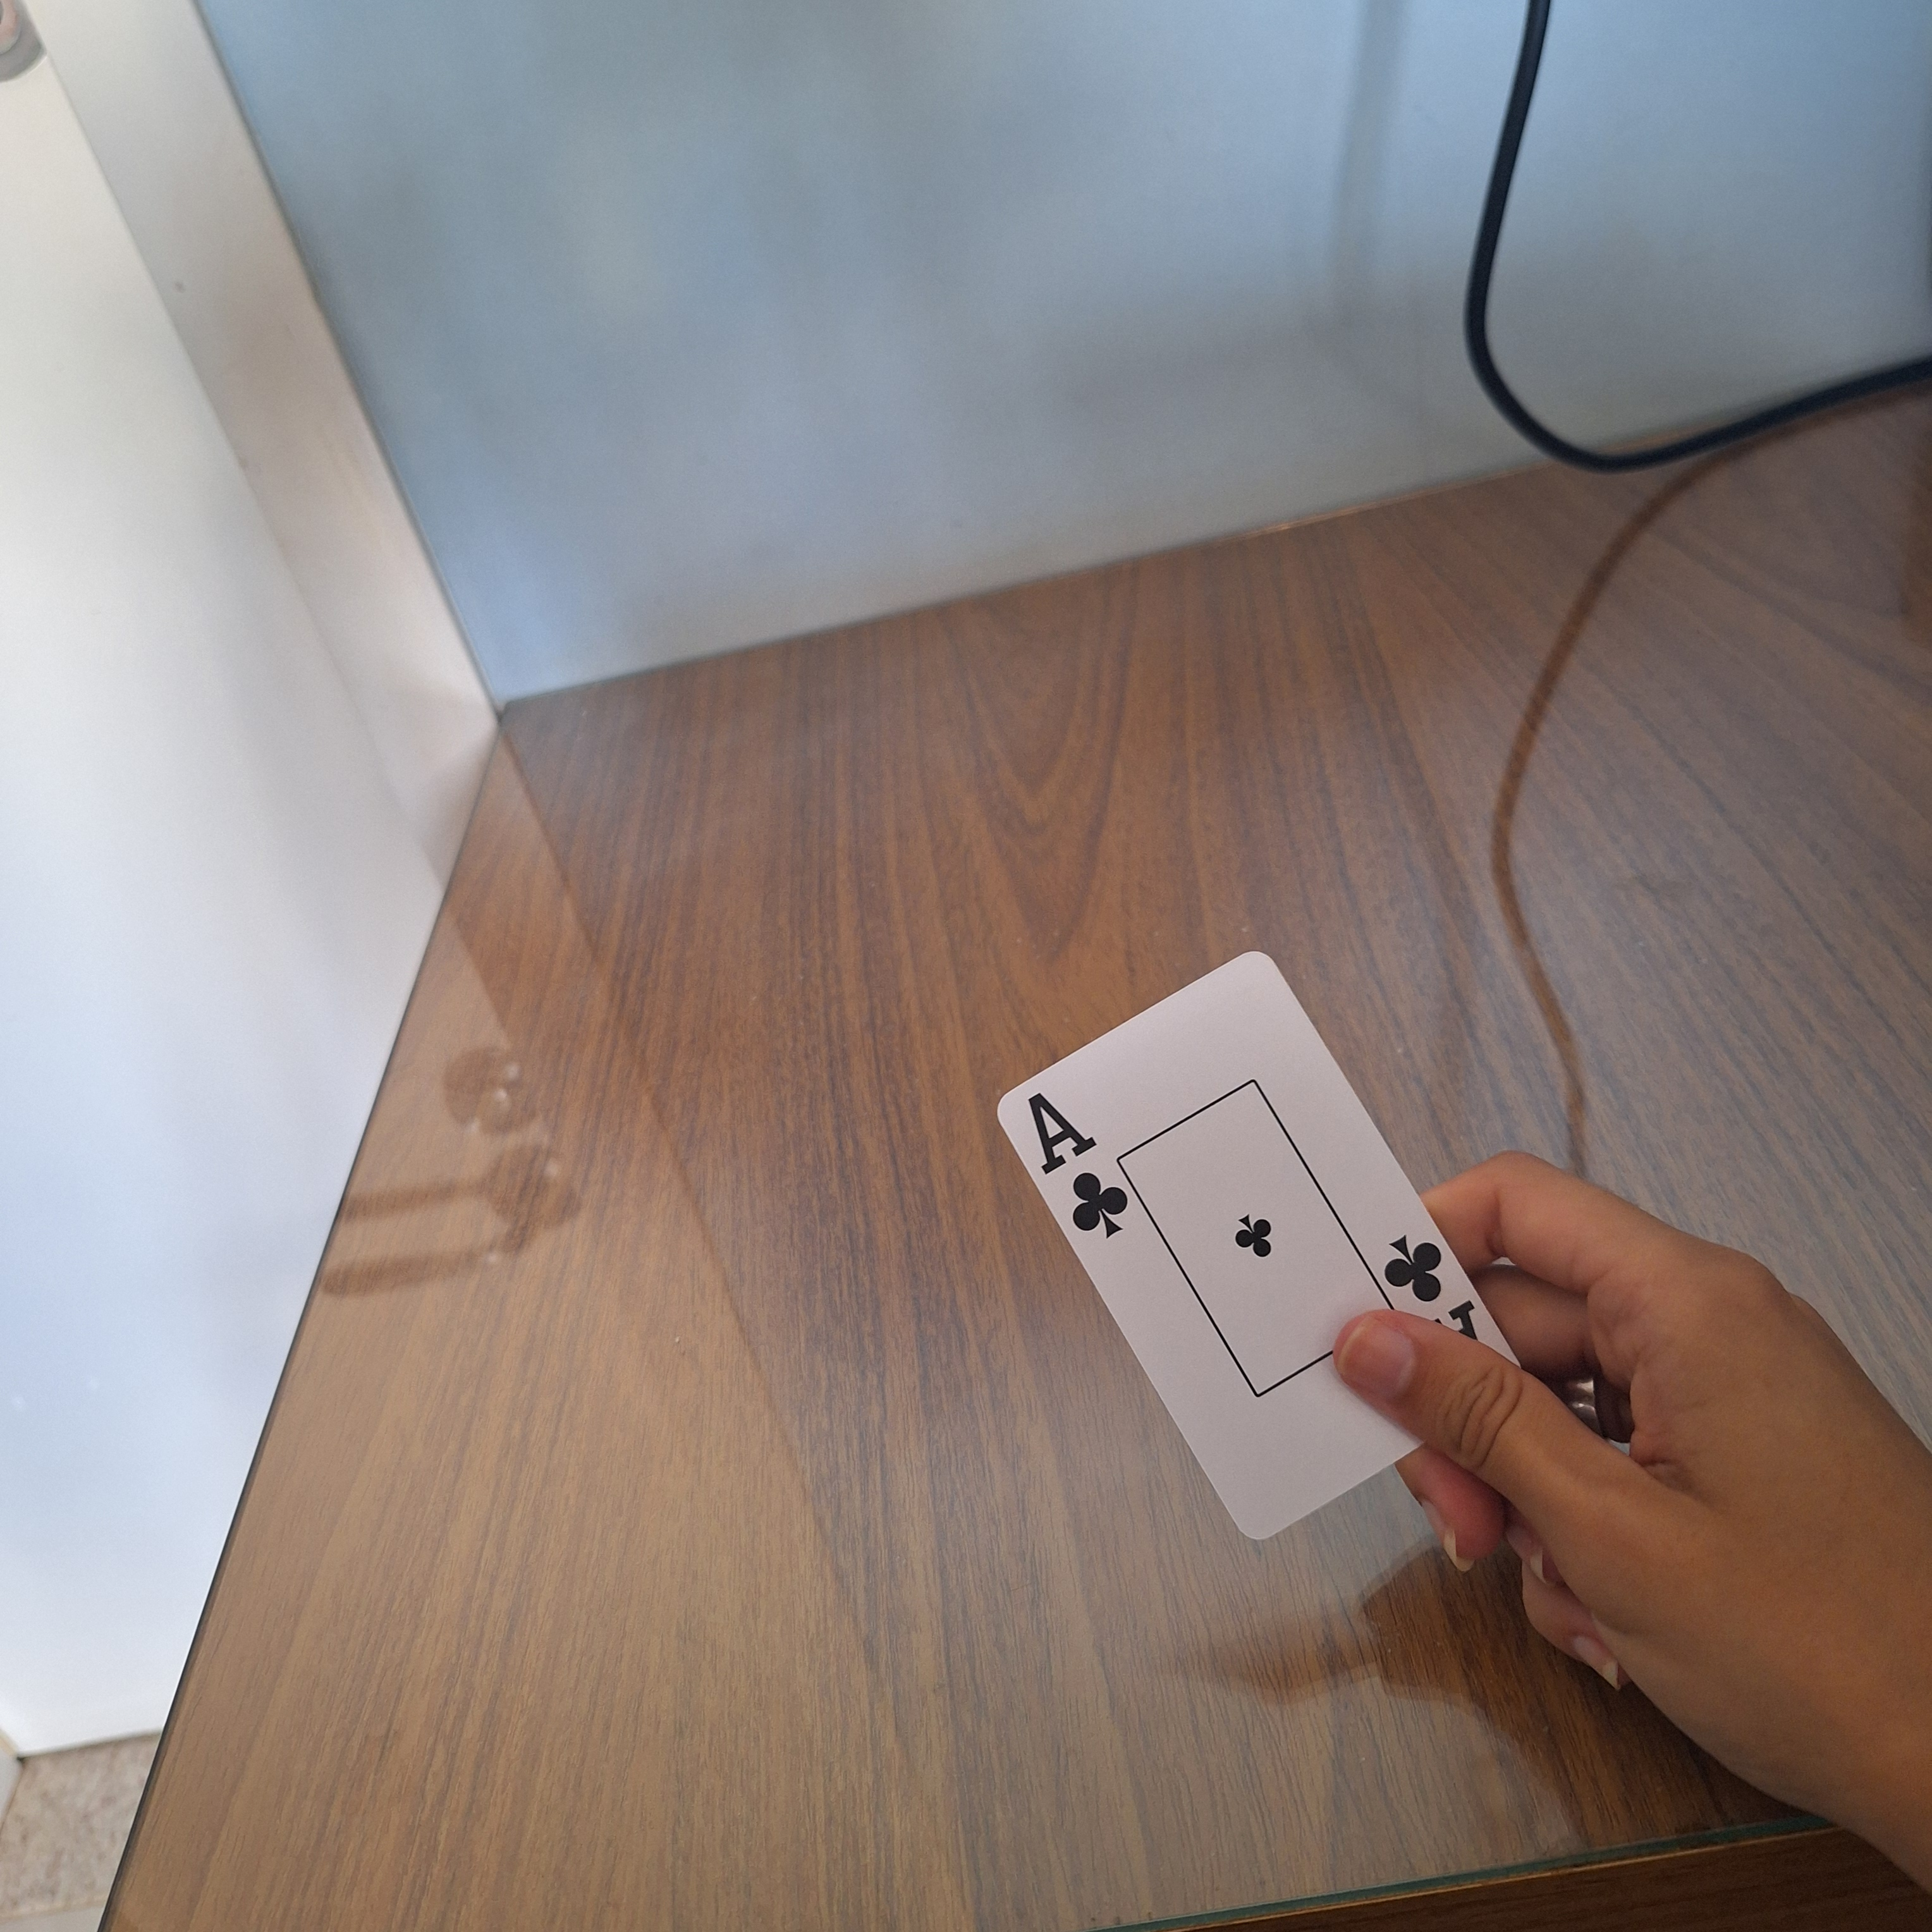AP: (1014, 1083, 1141, 1253)
